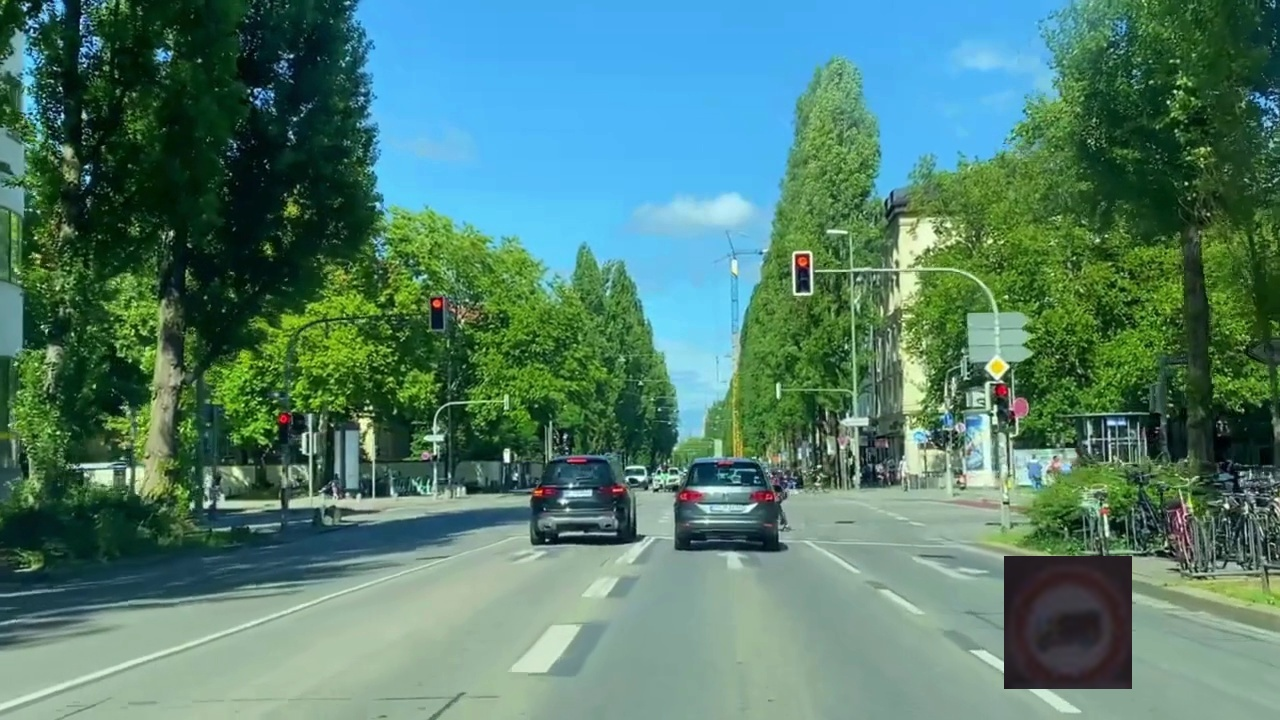Veh >3.5t prohib: (1004, 556, 1132, 689)
